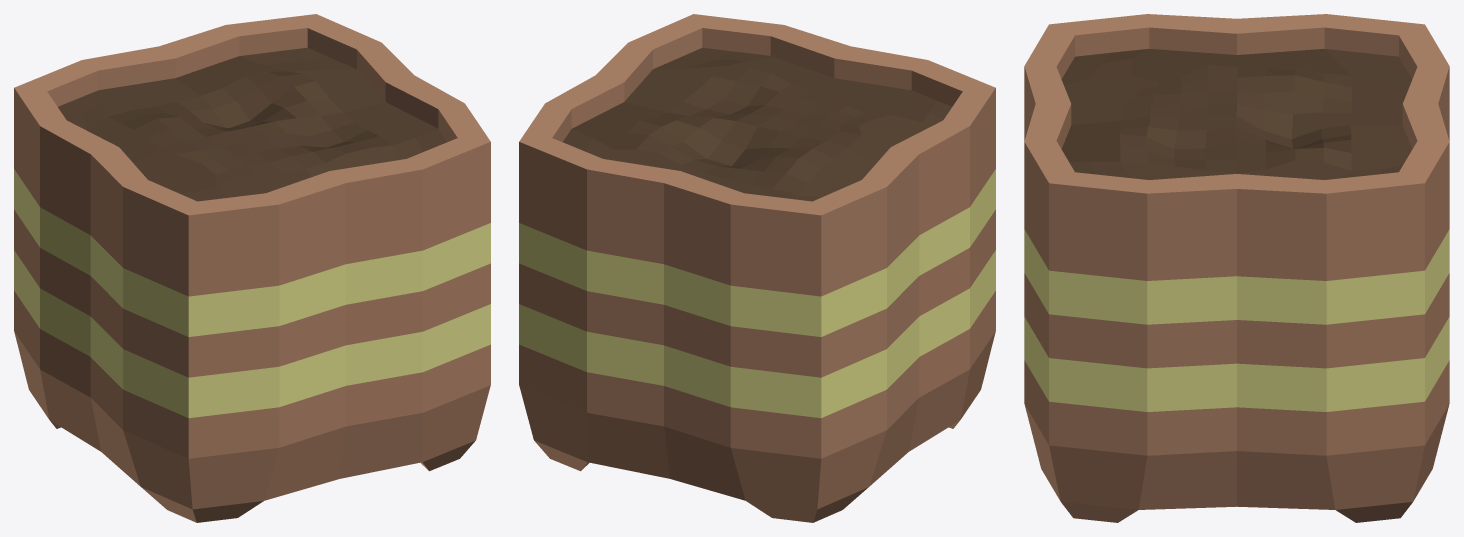
Rendered from big_pot.glb.
3 renders of one model, left to right at view 1: azimuth 30°, elevation 25°; view 2: azimuth 150°, elevation 25°; view 3: azimuth 270°, elevation 25°, orthographic. The views are drawn at different scales.
Parts seen in each view (by area): view 1: Куб; view 2: Куб; view 3: Куб.
Boxes of the visible parts, left/top/right/bottom form: Куб: left=14, top=14, right=490, bottom=522; Куб: left=519, top=14, right=995, bottom=522; Куб: left=1024, top=14, right=1449, bottom=522.
Bounding box in the file's own units: 2.05 × 1.84 × 2.05.
